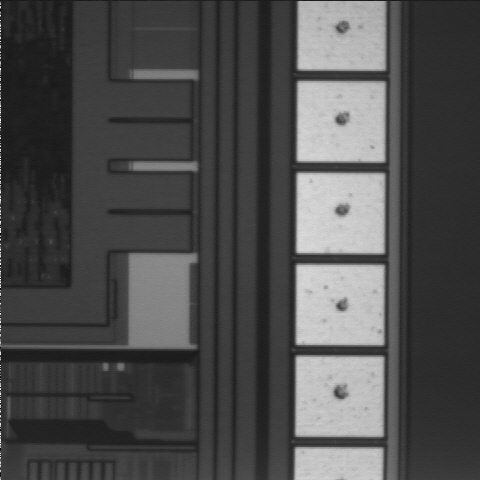pad: (297, 173, 384, 253), (297, 265, 384, 345), (297, 82, 384, 161), (296, 357, 383, 436)
